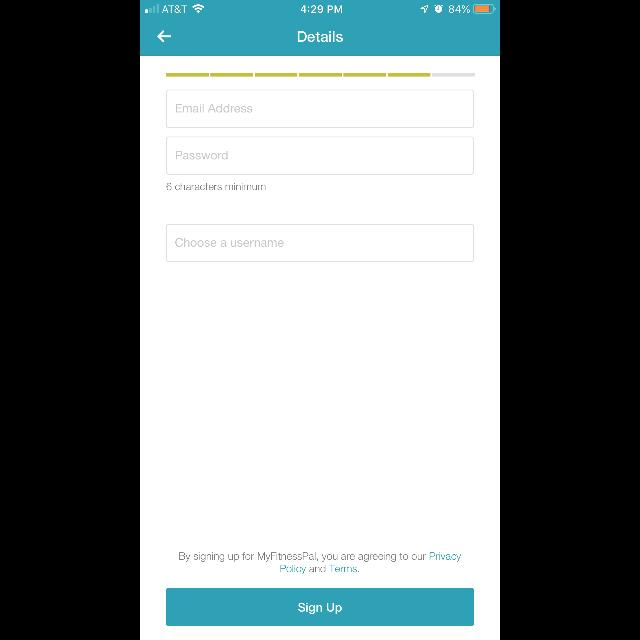icon: (157, 31, 171, 43)
input: (166, 224, 474, 262), (166, 137, 474, 175), (166, 90, 474, 128)
pageindicator: (167, 73, 475, 77)
text: (179, 552, 461, 574), (176, 238, 284, 246), (167, 183, 266, 191), (176, 105, 252, 113), (176, 150, 228, 160), (297, 32, 343, 42)
textbutton: (166, 588, 474, 626)
uppertaskbar: (140, 1, 500, 16)
